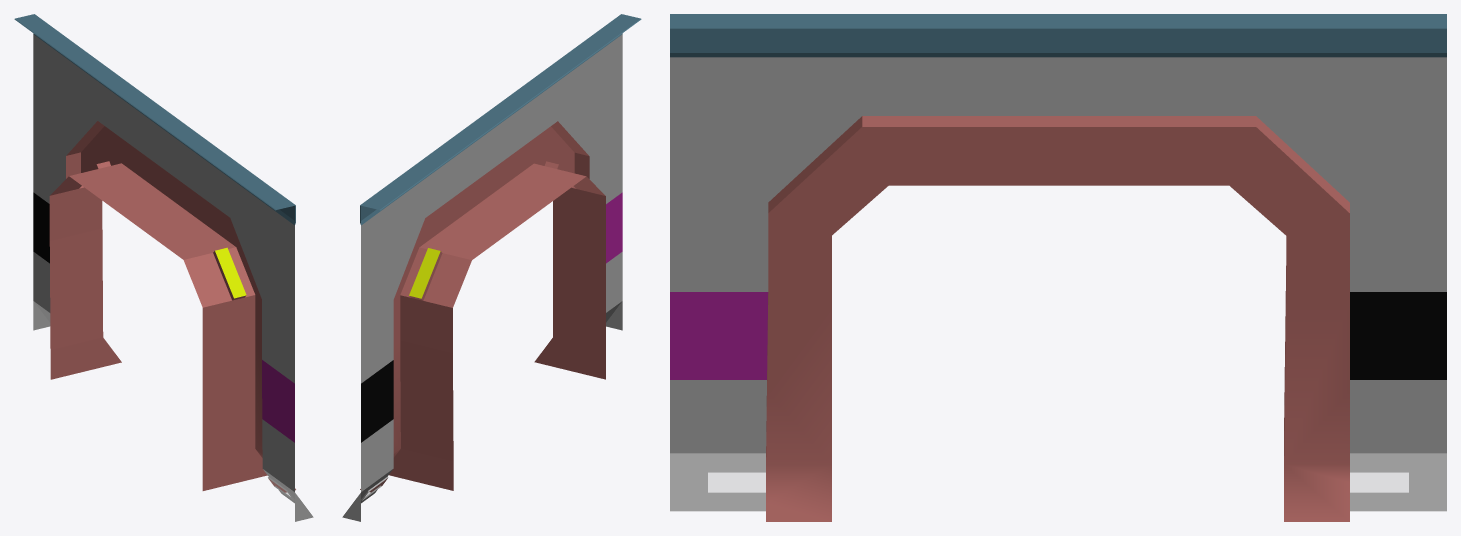
The model's file is SM_DoorLarge.fbx.
3 renders of one model, left to right at view 1: azimuth 30°, elevation 25°; view 2: azimuth 150°, elevation 25°; view 3: azimuth 270°, elevation 25°, orthographic. The views are drawn at different scales.
Parts seen in each view (by area): view 1: SM_LargeDoor; view 2: SM_LargeDoor; view 3: SM_LargeDoor.
Part boxes in pixels (x1,y1,x2,y2): SM_LargeDoor: (14,14,313,521); SM_LargeDoor: (342,14,641,521); SM_LargeDoor: (670,14,1446,521).
Size of what is drawn, in the model's own units: 94.79 by 401 by 600.
